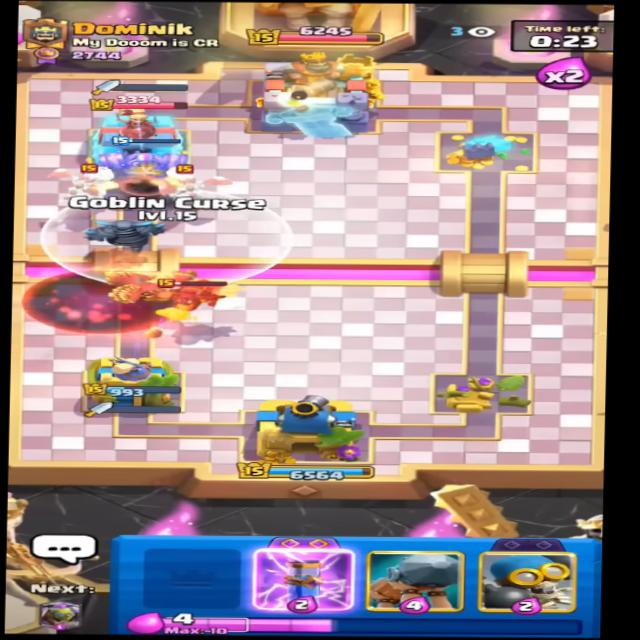lava-hound: (148, 270, 232, 317)
skeleton-dragon: (149, 163, 216, 210), (55, 165, 123, 204)
void: (20, 271, 172, 335)
